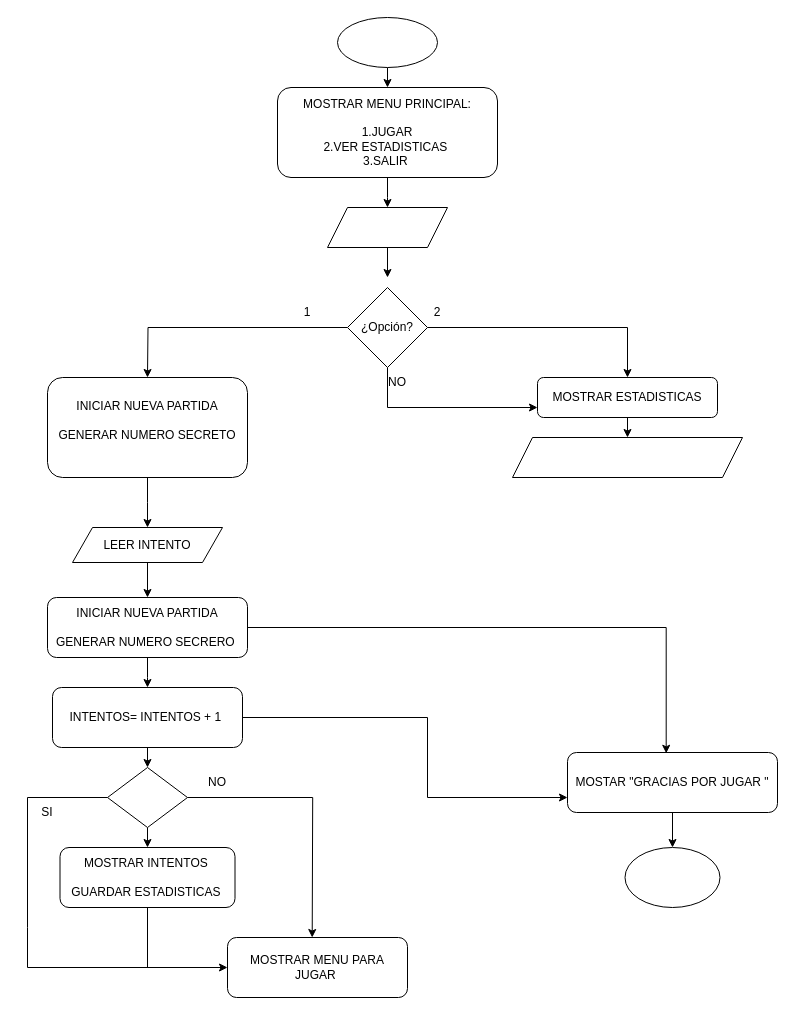
Some shapes in this 795 by 1015 pixel diagram are drawn without their labels. The shapes that lost their labels are listed below. From the top down, each one's centre as x and y in pixels, then its label:
At point (387, 42): "INICIO".
At point (387, 227): "LEER OPCION".
At point (627, 457): "MOSTRAR MENU PRINCIPAL".
At point (147, 797): "¿ADIVINO?".
At point (672, 877): "FIN".
